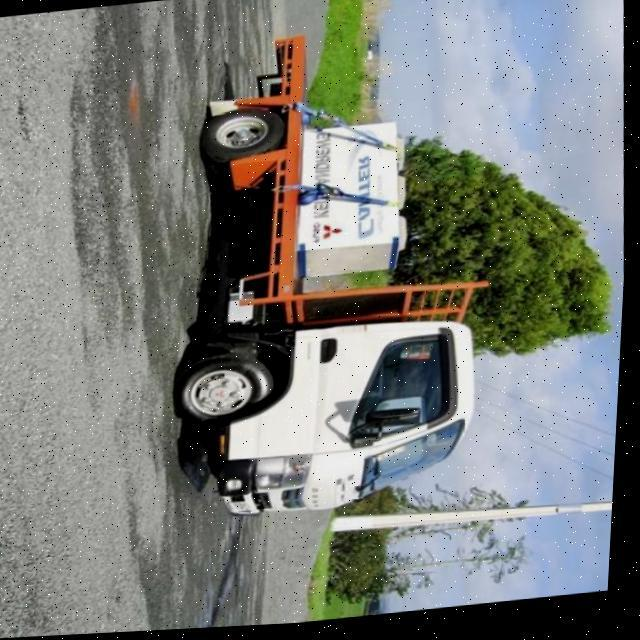truck: (154, 20, 522, 532)
